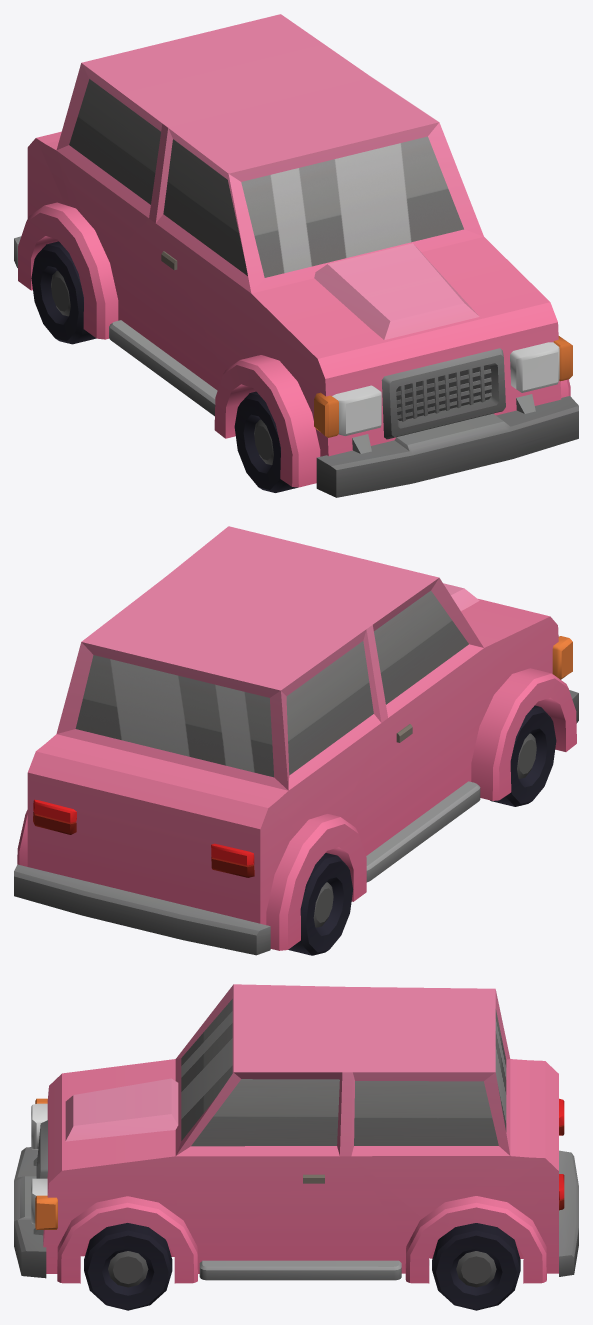
File: Car_3_10.fbx
3 views of the same model, one above another, from view 1: azimuth 30°, elevation 25°; view 2: azimuth 150°, elevation 25°; view 3: azimuth 270°, elevation 25° (orthographic). The views are drawn at different scales.
Parts seen in each view (by area): view 1: Car_3_10, Wheel_Br, Wheel_Fr; view 2: Car_3_10, Wheel_Br, Wheel_Fr; view 3: Car_3_10, Wheel_Bl, Wheel_Fl.
Boxes of the visible parts, bbox=[...] form: Car_3_10: bbox=[14, 14, 578, 497]; Wheel_Br: bbox=[31, 241, 96, 344]; Wheel_Fr: bbox=[234, 391, 297, 492]; Car_3_10: bbox=[14, 526, 578, 955]; Wheel_Br: bbox=[288, 853, 353, 955]; Wheel_Fr: bbox=[490, 705, 556, 806]; Car_3_10: bbox=[14, 984, 578, 1283]; Wheel_Bl: bbox=[432, 1223, 520, 1310]; Wheel_Fl: bbox=[84, 1223, 172, 1310].
Size of the model in its own units: 113 by 102 by 230.
